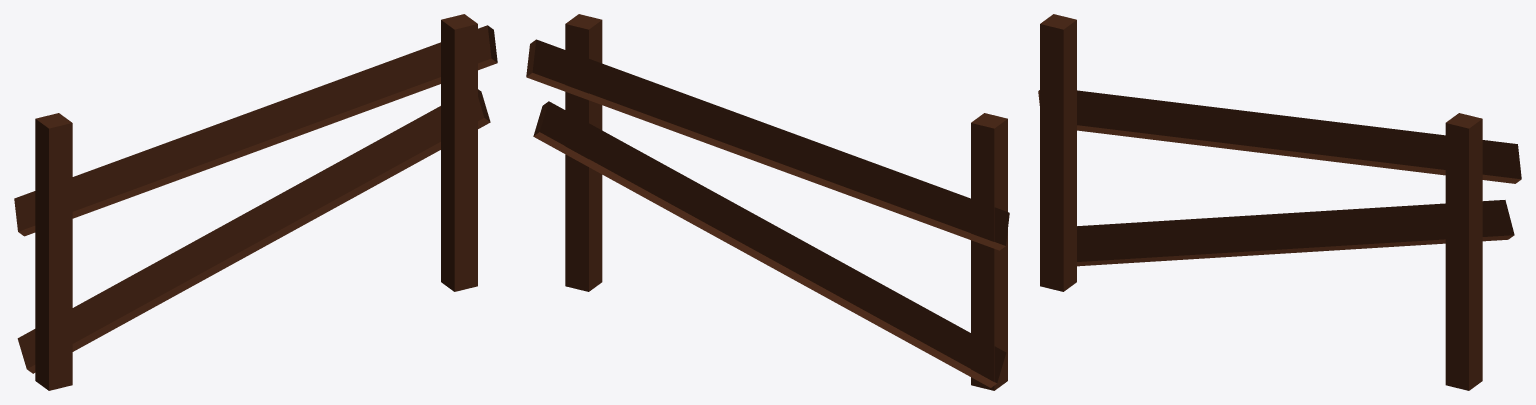
File: fence2.glb
The picture shows the model from 3 angles, left to right: view 1: azimuth 30°, elevation 25°; view 2: azimuth 150°, elevation 25°; view 3: azimuth 330°, elevation 25°; orthographic projection.
Visible parts, largest first — view 1: fence2; view 2: fence2; view 3: fence2.
Boxes of the visible parts, bbox=[...] form: fence2: bbox=[14, 14, 497, 390]; fence2: bbox=[526, 14, 1009, 390]; fence2: bbox=[1038, 14, 1521, 390].
Bounding box in the file's own units: 2.32 × 1.22 × 0.1655.
